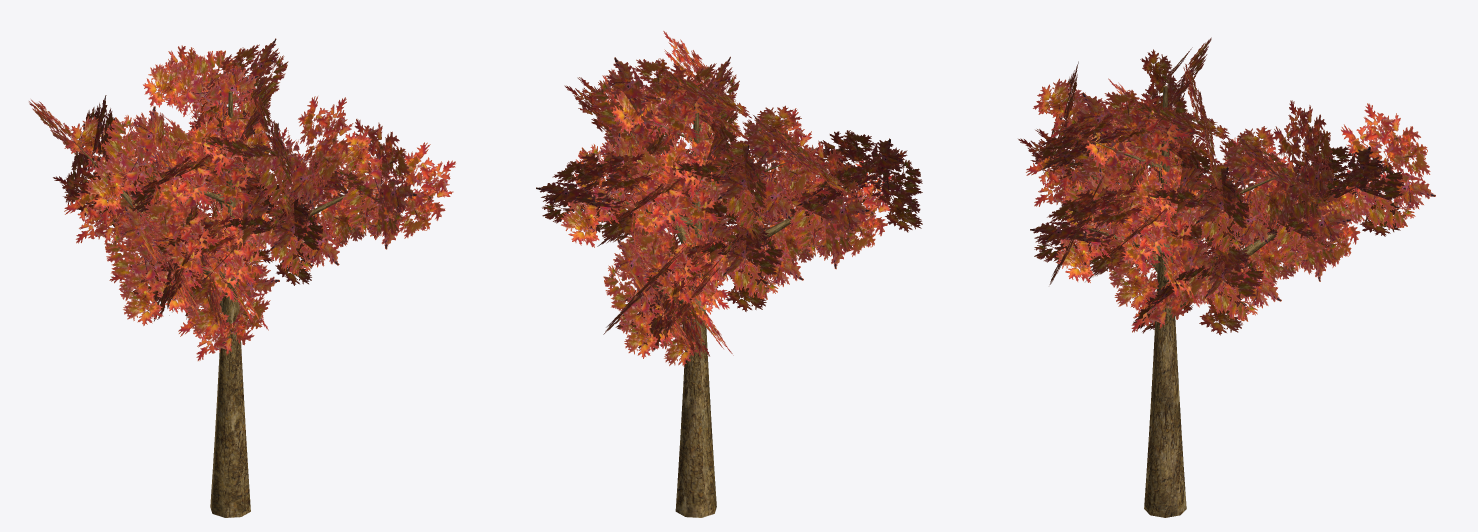
File: Tree09.FBX
3 renders of one model, left to right at view 1: azimuth 30°, elevation 25°; view 2: azimuth 150°, elevation 25°; view 3: azimuth 270°, elevation 25°, orthographic.
Parts seen in each view (by area): view 1: Plane38, Plane20, Cylinder01, Plane44, Plane27, Plane41, Plane26, Plane23, Plane09, Plane16, Plane01, Plane35 (+21 smaller); view 2: Cylinder01, Plane43, Plane10, Plane32, Plane33, Plane20, Plane37, Plane36, Plane18, Plane42, Plane17, Plane14 (+24 smaller); view 3: Cylinder01, Plane11, Plane40, Plane25, Plane33, Plane26, Plane30, Plane22, Plane07, Plane31, Plane10, Plane19 (+20 smaller).
Boxes of the visible parts, <box> form: Plane38: <box>85,106,213,215</box>; Plane20: <box>104,199,220,325</box>; Cylinder01: <box>210,91,250,517</box>; Plane44: <box>143,50,259,176</box>; Plane27: <box>338,131,455,249</box>; Plane41: <box>239,96,353,206</box>; Plane26: <box>325,119,416,246</box>; Plane23: <box>250,159,350,275</box>; Plane09: <box>64,116,159,244</box>; Plane16: <box>154,201,256,313</box>; Plane01: <box>178,255,279,360</box>; Plane35: <box>138,132,262,225</box>; Cylinder01: <box>675,90,716,517</box>; Plane43: <box>591,57,717,167</box>; Plane10: <box>603,229,702,358</box>; Plane32: <box>560,132,687,247</box>; Plane33: <box>536,150,652,240</box>; Plane20: <box>819,130,922,232</box>; Plane37: <box>711,105,831,216</box>; Plane36: <box>698,108,816,230</box>; Plane18: <box>780,153,893,269</box>; Plane42: <box>611,73,722,199</box>; Plane17: <box>769,140,869,266</box>; Plane14: <box>701,208,803,299</box>; Cylinder01: <box>1144,85,1186,517</box>; Plane11: <box>1316,103,1435,229</box>; Plane40: <box>1060,90,1190,199</box>; Plane25: <box>1056,167,1173,282</box>; Plane33: <box>1257,100,1337,228</box>; Plane26: <box>1030,186,1143,274</box>; Plane30: <box>1170,132,1287,253</box>; Plane22: <box>1092,182,1199,309</box>; Plane07: <box>1245,156,1351,285</box>; Plane31: <box>1191,126,1295,234</box>; Plane10: <box>1289,145,1403,236</box>; Plane19: <box>1026,78,1121,206</box>.
Size of the model in its own units: 347 by 394 by 359.
2 materials, 2 textured.
